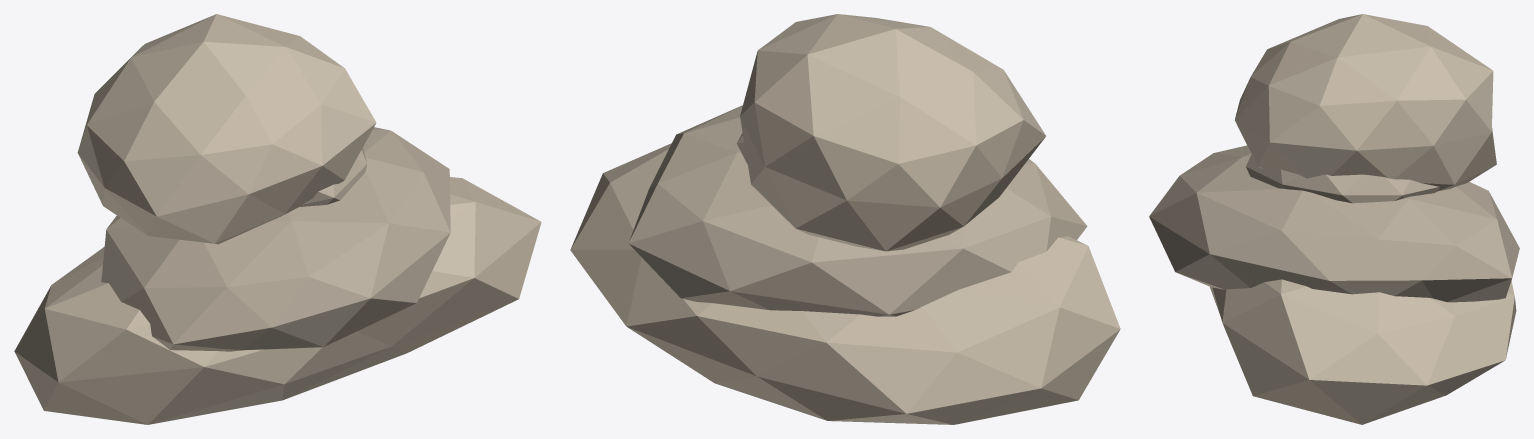
The model's file is campo_rock_slate_5.glb.
3 views of the same model, side by side, from view 1: azimuth 30°, elevation 25°; view 2: azimuth 150°, elevation 25°; view 3: azimuth 270°, elevation 25° (orthographic). The views are drawn at different scales.
Visible parts, largest first — view 1: campo_rock_slate_5.glb; view 2: campo_rock_slate_5.glb; view 3: campo_rock_slate_5.glb.
Part boxes in pixels (x1=…): campo_rock_slate_5.glb: x1=14, y1=14, x2=541, y2=424; campo_rock_slate_5.glb: x1=570, y1=14, x2=1120, y2=424; campo_rock_slate_5.glb: x1=1149, y1=14, x2=1519, y2=424.
Size of the model in its own units: 2.29 by 1.54 by 1.58.
